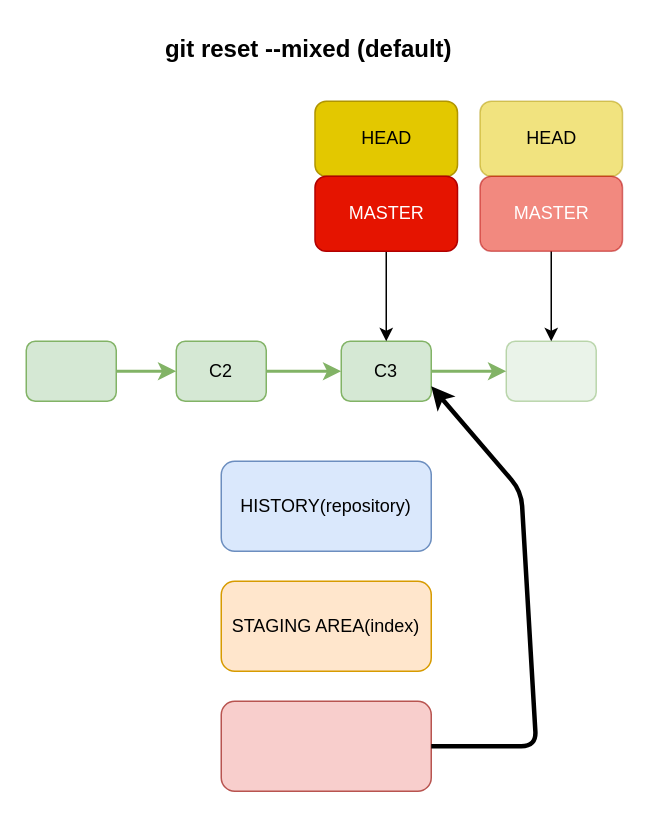
Image size: 650x818. Some labels were removed from this diagram. The shapes that lost their labels are listed below. From the top down, each one's centre as x and y in pixels, then its label:
the point at 70,370: C!
the point at 550,370: C4
the point at 325,745: WORKING DIRECTORY
